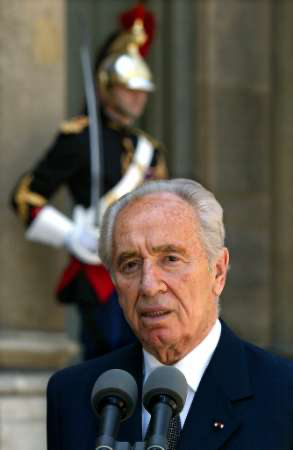Face: (105, 228, 216, 359), (113, 78, 154, 118)
